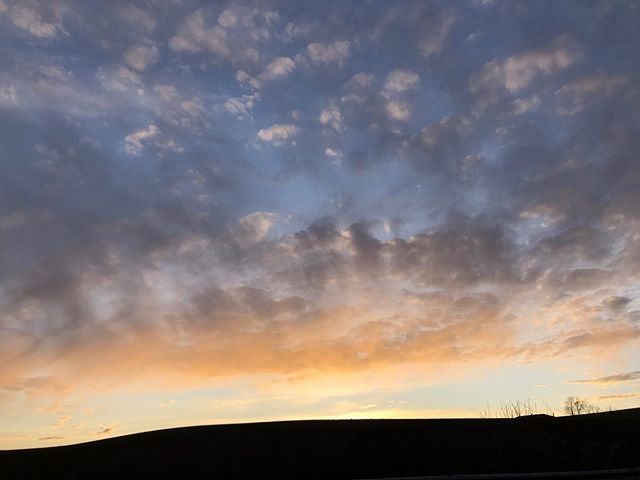sky: (1, 1, 636, 414)
